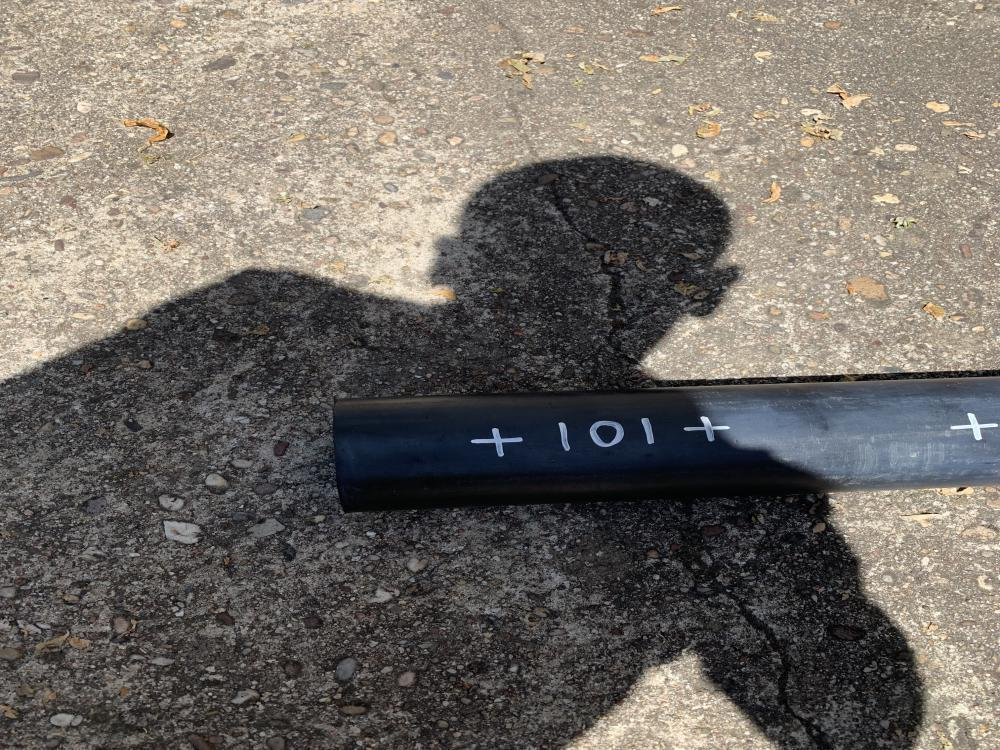+: (950, 413, 999, 442), (472, 428, 522, 456), (683, 416, 731, 442)
0: (590, 420, 624, 448)
1: (558, 422, 572, 451), (641, 418, 655, 444)
